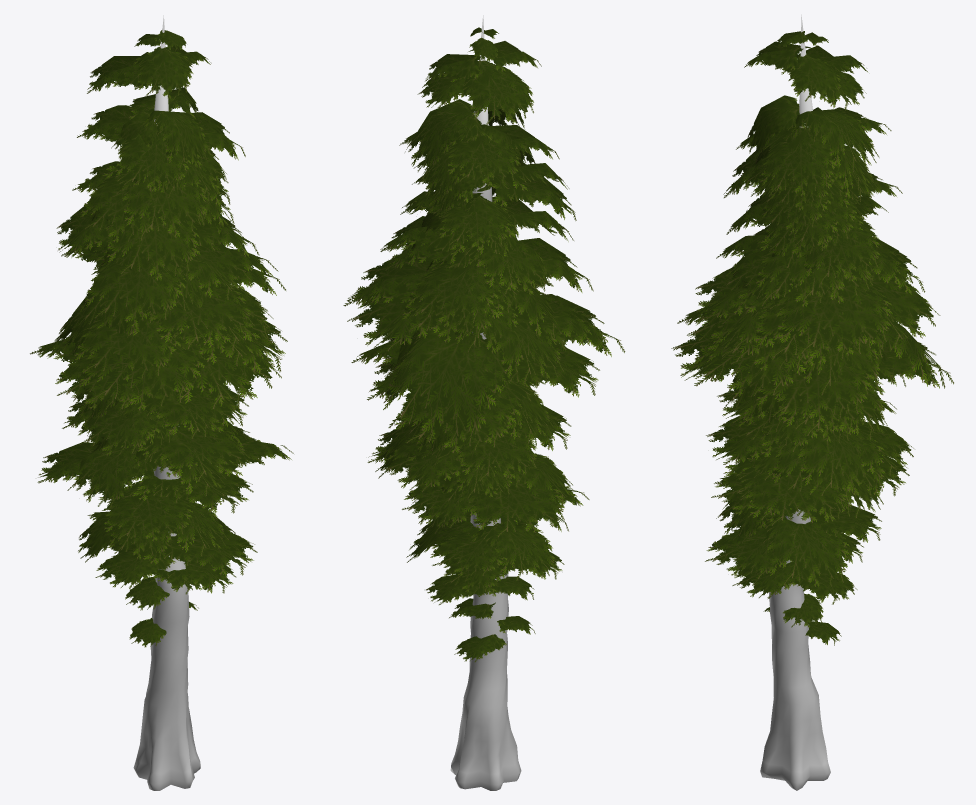
File: TreeSmall001.fbx
3 views of the same model, side by side, from view 1: azimuth 30°, elevation 25°; view 2: azimuth 150°, elevation 25°; view 3: azimuth 270°, elevation 25° (orthographic).
Parts seen in each view (by area): view 1: TreeSmall001_LOD0; view 2: TreeSmall001_LOD0; view 3: TreeSmall001_LOD0.
Boxes of the visible parts, x1,y1,x2,y2 form: TreeSmall001_LOD0: (30,15,293,790); TreeSmall001_LOD0: (343,15,625,790); TreeSmall001_LOD0: (671,14,953,790).
Bounding box in the file's own units: 528 × 1600 × 571.
